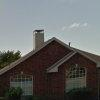Chimney: (23, 20, 52, 47)
